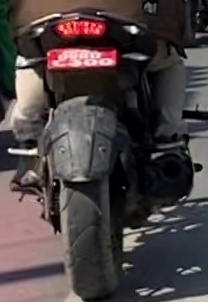license_plate: (46, 47, 117, 68)
